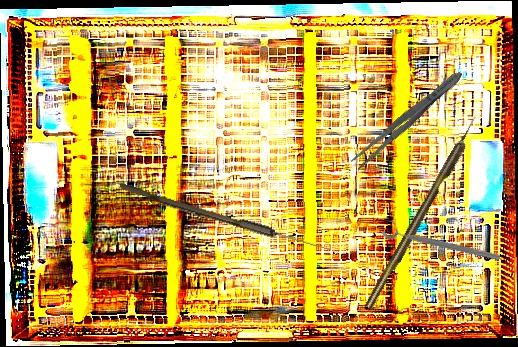Dressing Forceps: (347, 66, 468, 173)
Fixation Ring: (381, 217, 503, 265)
Hook Surgical: (362, 114, 483, 311)
Surgical Spoon: (117, 183, 332, 254)
